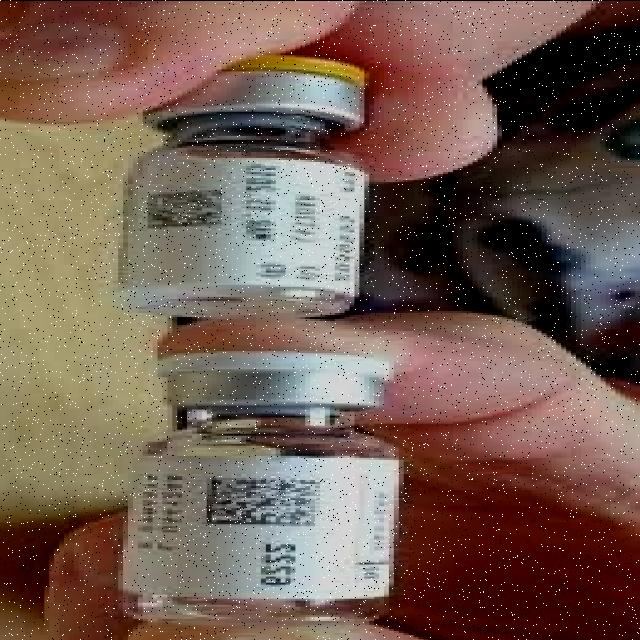datamatrix: (197, 471, 335, 531), (128, 183, 241, 232)
